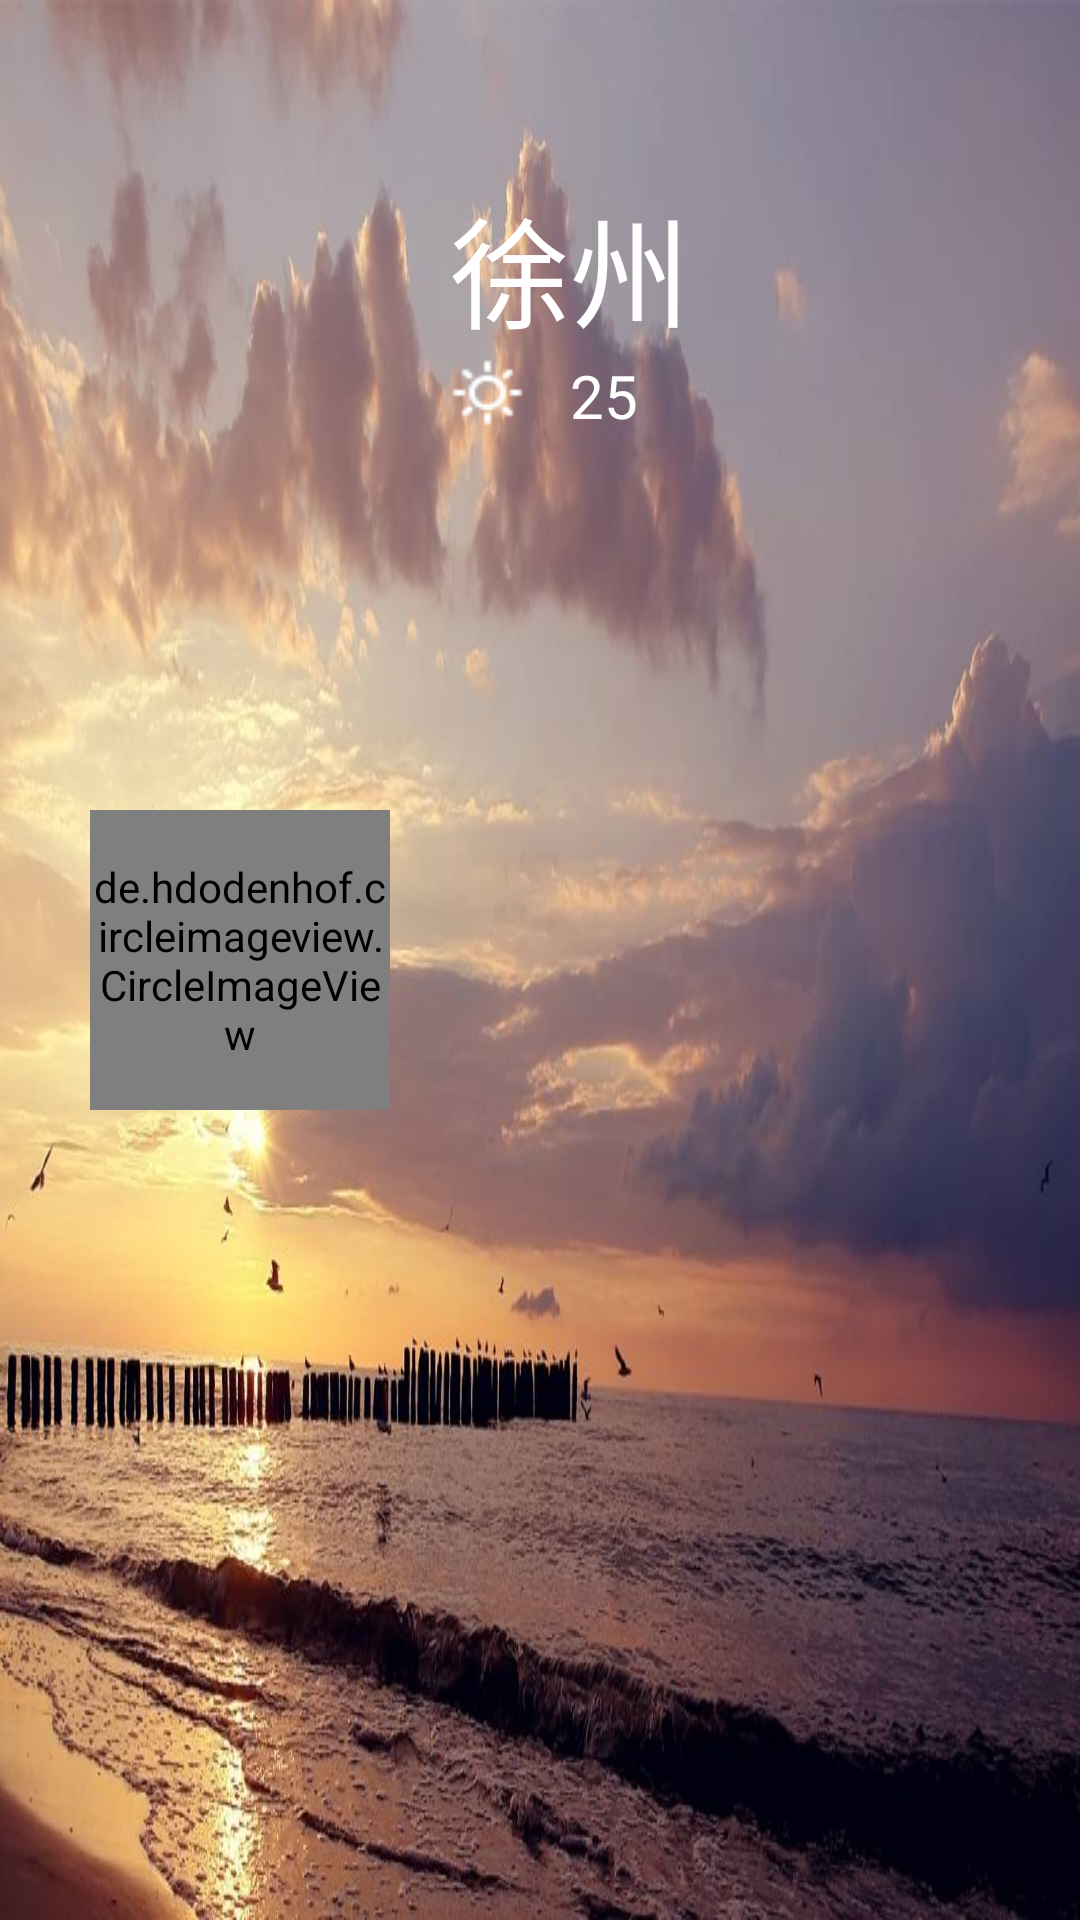

Icons on this 1080x1920 Android screen, each with the point to tap as (x,y):
qing: (487,395)
